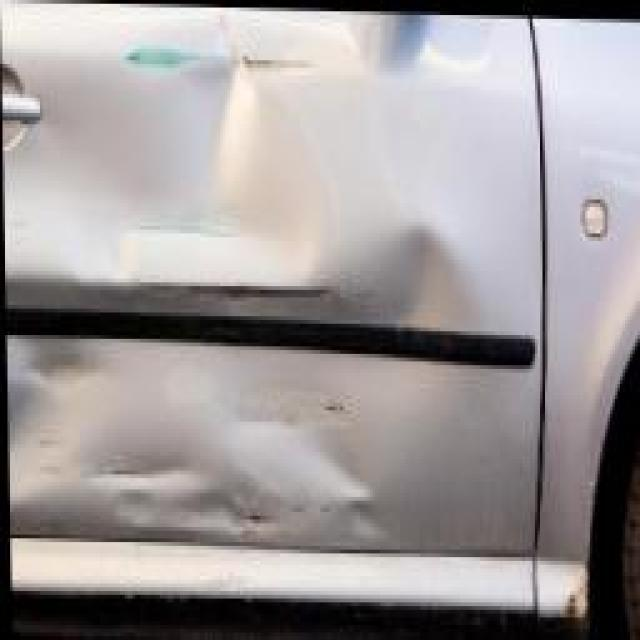Door: (2, 34, 503, 570)
